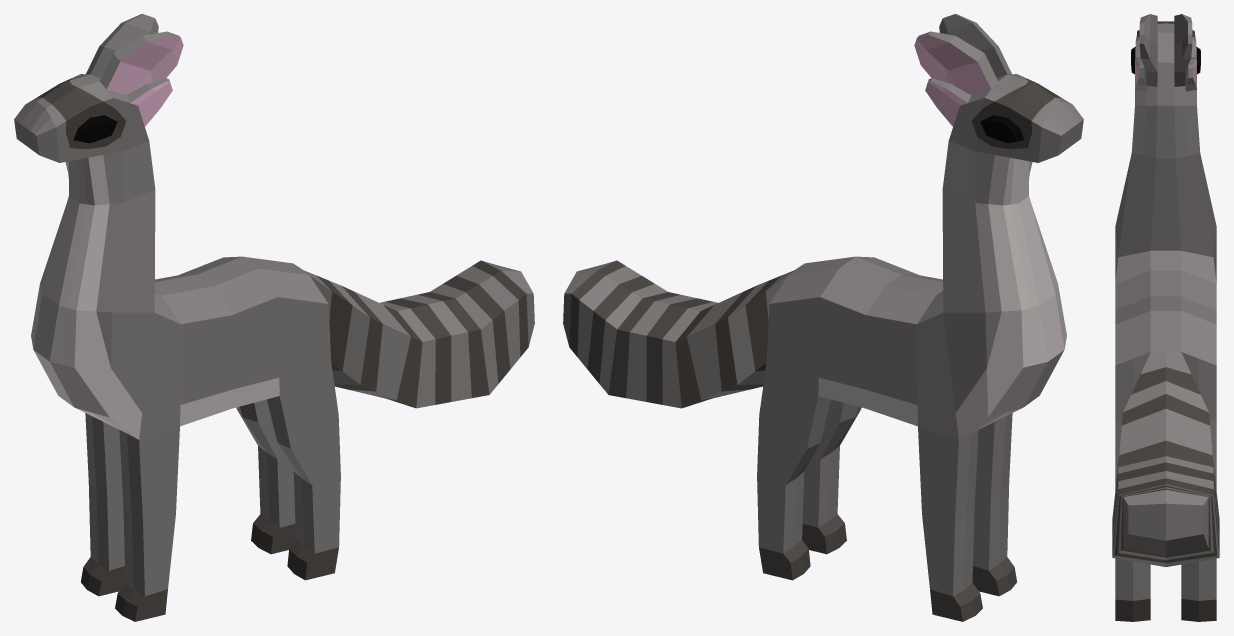
File: Ramson2.fbx
3 renders of one model, left to right at view 1: azimuth 30°, elevation 25°; view 2: azimuth 150°, elevation 25°; view 3: azimuth 270°, elevation 25°, orthographic. The views are drawn at different scales.
Parts seen in each view (by area): view 1: Plane; view 2: Plane; view 3: Plane.
Boxes of the visible parts, x1,y1,x2,y2 form: Plane: (14, 14, 534, 621); Plane: (563, 14, 1083, 621); Plane: (1112, 14, 1219, 621).
Bounding box in the file's own units: 351 × 382 × 70.47.
